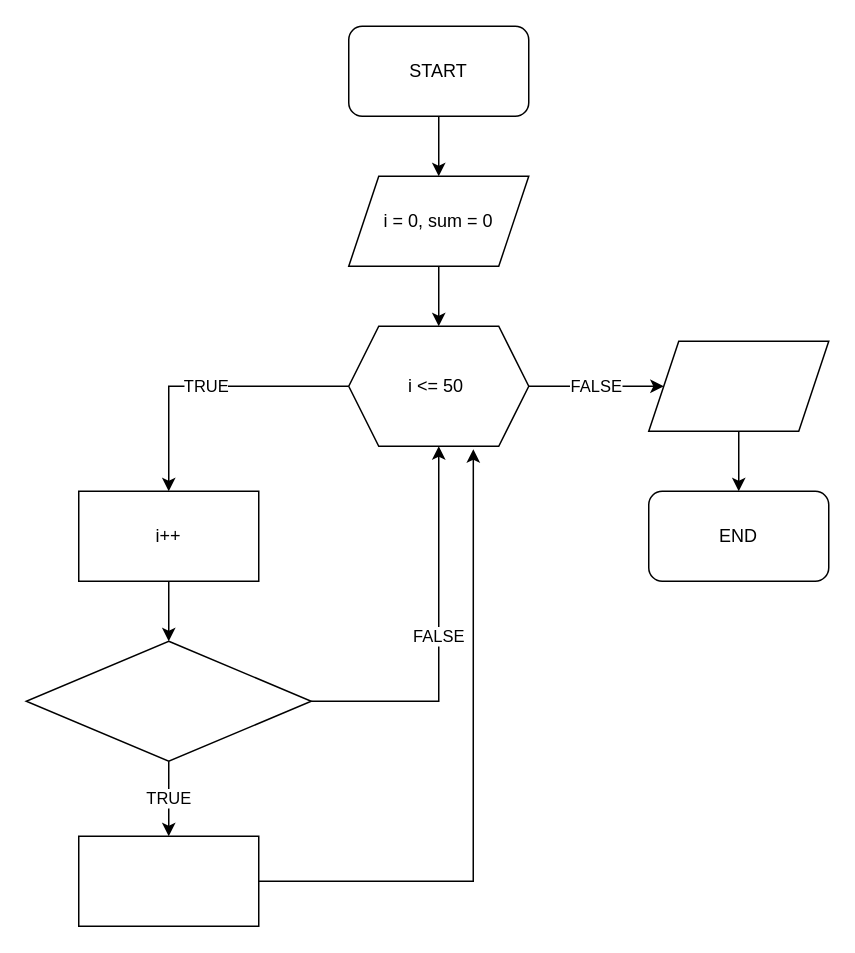
This 855x953 diagram has some shape labels left out. The centre of each missing label's shape, as x and y in pixels:
i % 3 == 0 || i % 5 == 0: pixel 168 700
print(sum): pixel 738 385
sum += i: pixel 168 880
